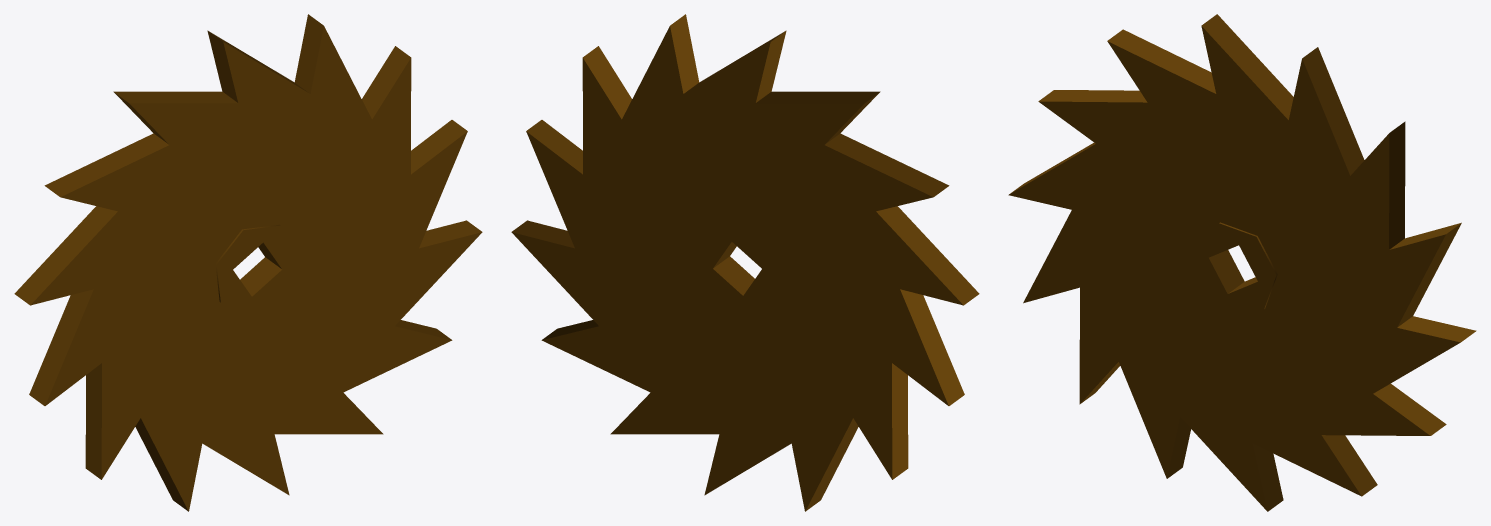
File: Roue dente etoile_Quarts.obj
The picture shows the model from 3 angles, left to right: view 1: azimuth 30°, elevation 25°; view 2: azimuth 150°, elevation 25°; view 3: azimuth 330°, elevation 25°; orthographic projection.
Visible parts, largest first — view 1: Face_1, Face_31, Face_20, Face_22, Face_18, Face_24, Face_16, Face_11, Face_13, Face_9, Face_26, Face_7 (+2 smaller); view 2: Face_2, Face_20, Face_22, Face_18, Face_24, Face_16, Face_11, Face_13, Face_9, Face_26, Face_7, Face_15 (+1 smaller); view 3: Face_1, Face_31, Face_12, Face_14, Face_16, Face_10, Face_5, Face_3, Face_18, Face_29, Face_7, Face_8 (+2 smaller).
Part boxes in pixels (<box>): Face_1: <box>30,26,482,511</box>; Face_31: <box>216,225,300,315</box>; Face_20: <box>14,206,117,305</box>; Face_22: <box>29,289,93,405</box>; Face_18: <box>44,133,168,197</box>; Face_24: <box>85,363,101,479</box>; Face_16: <box>114,91,237,103</box>; Face_11: <box>362,46,410,119</box>; Face_13: <box>294,14,323,93</box>; Face_9: <box>411,120,467,174</box>; Face_26: <box>135,418,188,511</box>; Face_7: <box>419,220,481,248</box>; Face_2: <box>511,26,963,511</box>; Face_20: <box>876,206,979,305</box>; Face_22: <box>900,289,964,405</box>; Face_18: <box>825,133,949,197</box>; Face_24: <box>892,363,908,479</box>; Face_16: <box>756,91,879,103</box>; Face_11: <box>583,46,631,119</box>; Face_13: <box>670,14,699,93</box>; Face_9: <box>526,120,582,174</box>; Face_26: <box>805,418,858,511</box>; Face_7: <box>512,220,574,248</box>; Face_15: <box>756,30,786,102</box>; Face_1: <box>1008,26,1460,511</box>; Face_31: <box>1192,223,1276,313</box>; Face_12: <box>1302,47,1364,175</box>; Face_14: <box>1201,14,1293,119</box>; Face_16: <box>1107,29,1216,93</box>; Face_10: <box>1389,121,1405,249</box>; Face_5: <box>1373,383,1446,435</box>; Face_3: <box>1321,435,1377,496</box>; Face_18: <box>1038,90,1147,102</box>; Face_29: <box>1253,444,1283,511</box>; Face_7: <box>1397,316,1476,342</box>; Face_8: <box>1397,223,1461,327</box>.
Size of the model in its own units: 0.0443 by 0.0439 by 0.0029.
